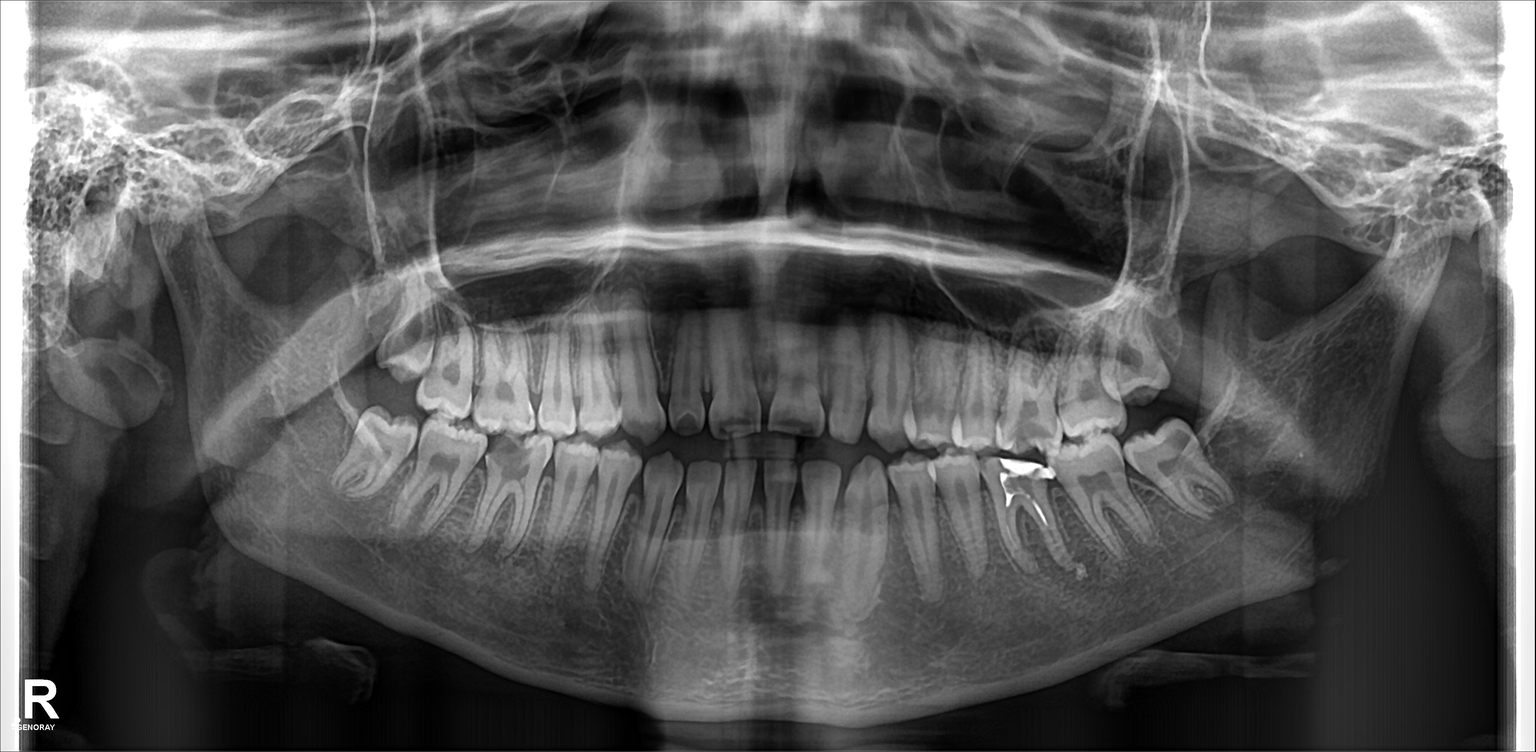Dental Caries: (490, 430, 533, 492), (1013, 396, 1044, 442), (664, 409, 699, 439)
Endodontically Treated Tooth: (993, 456, 1058, 579)
Missing Tooth: (1162, 296, 1204, 381)
